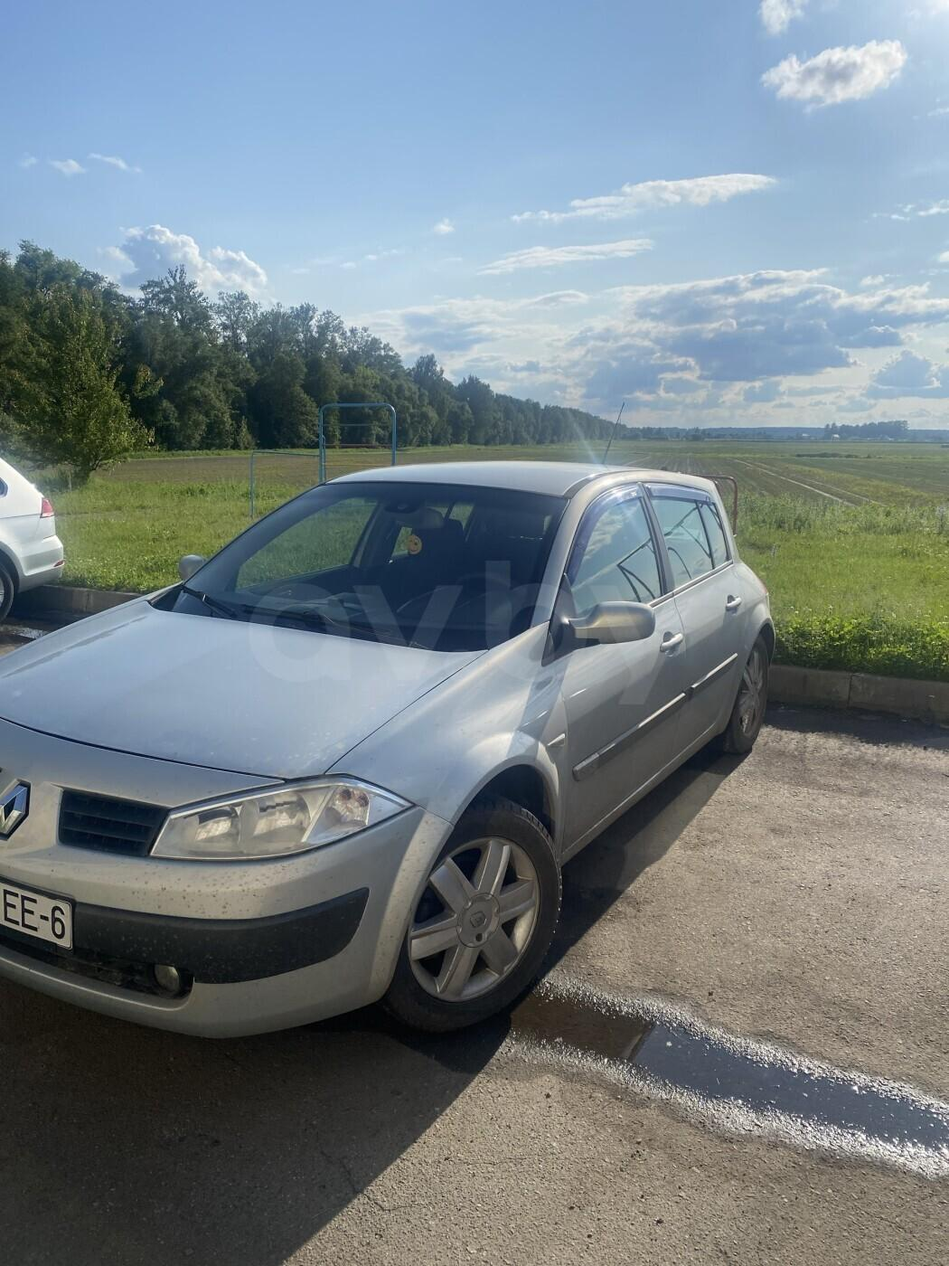Megane_2002-2006: (0, 452, 777, 1063)
